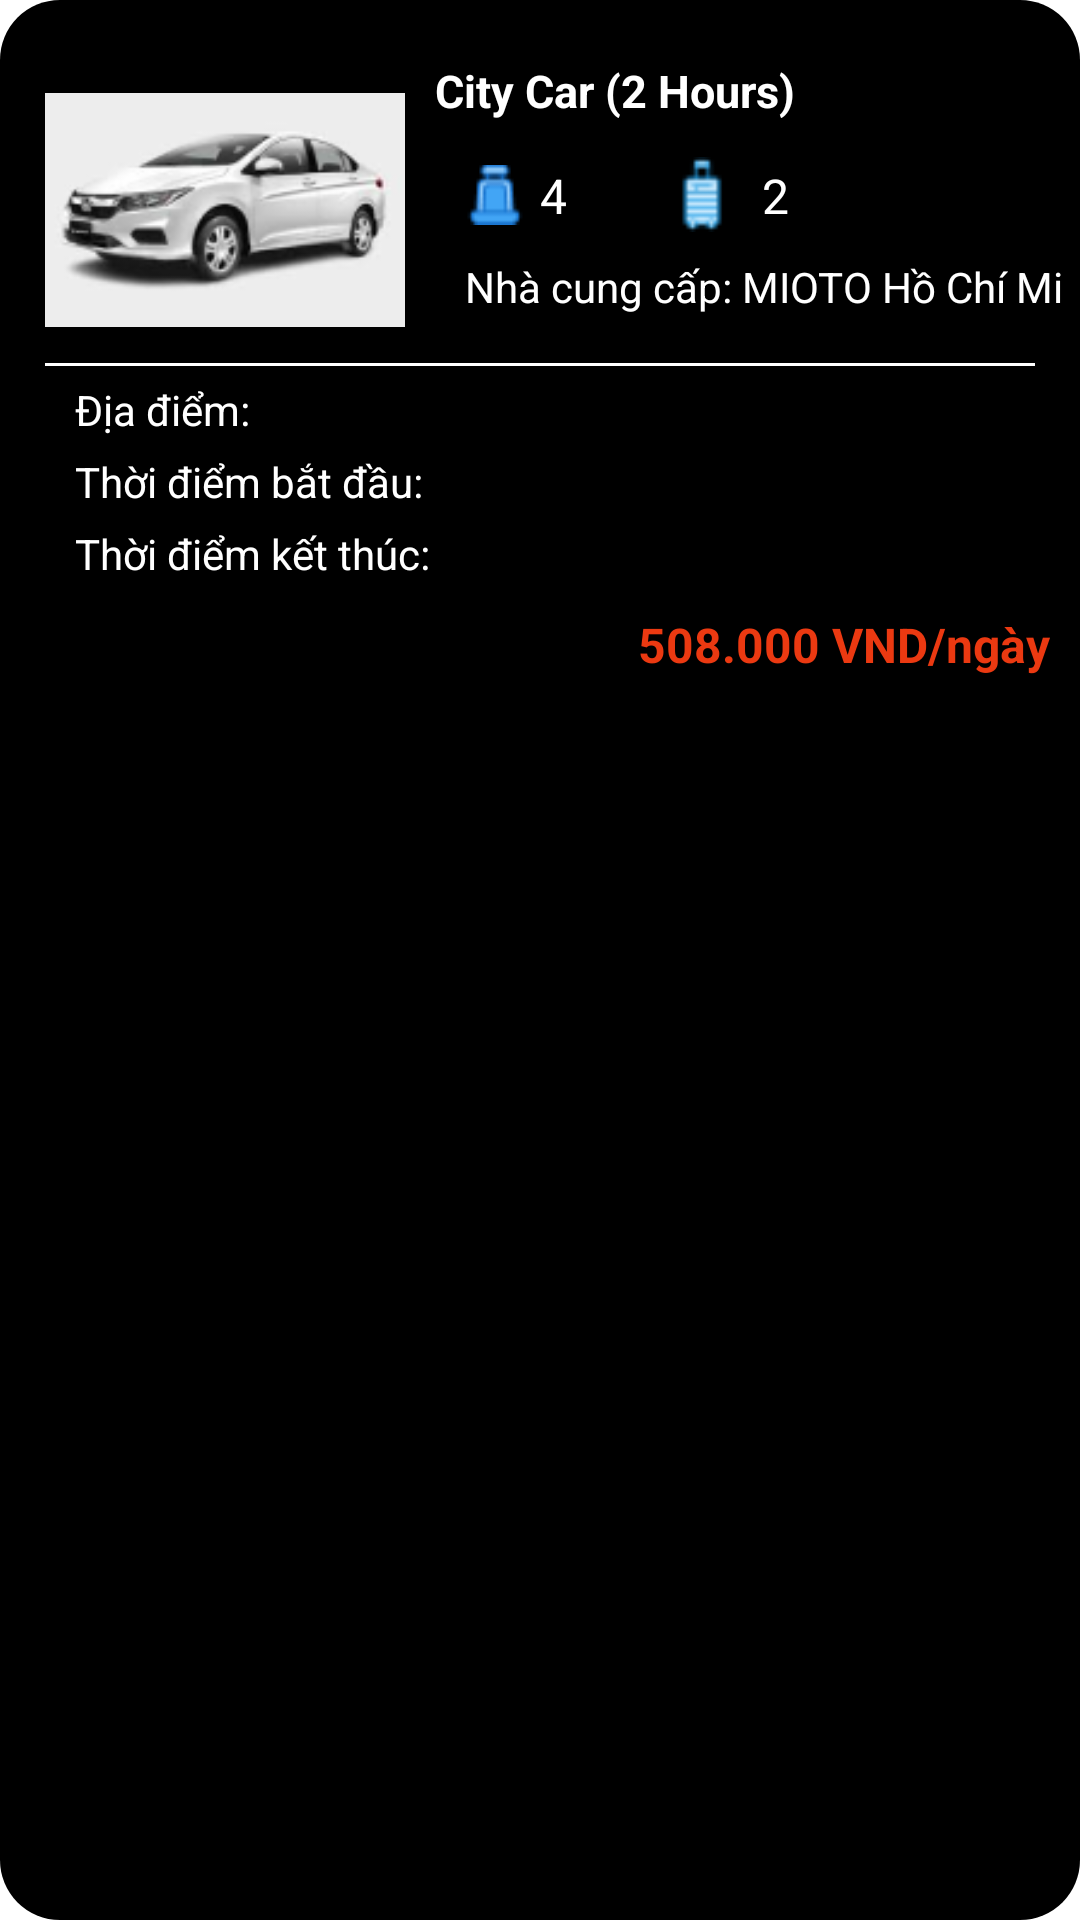

Icons on this 1080w x 1920h Android screen, each with its box as (x1, y1, x2, y2):
luggage: (682, 157, 722, 232)
seat count: (469, 165, 521, 225)
